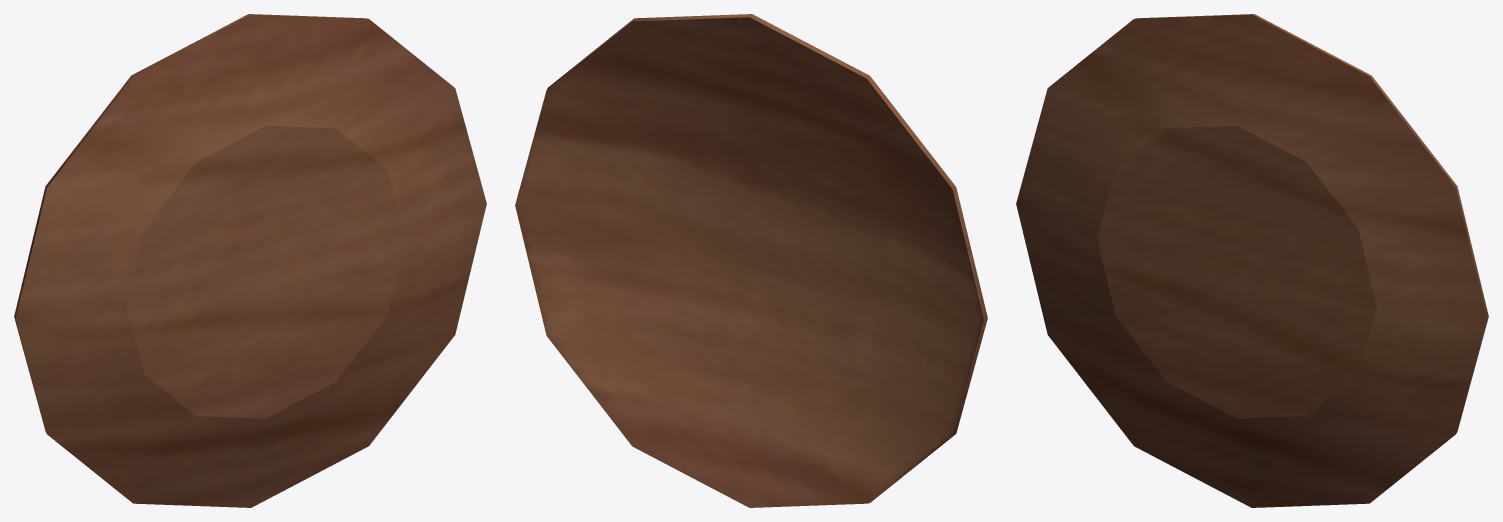
The model's file is Plate001.fbx.
3 views of the same model, side by side, from view 1: azimuth 30°, elevation 25°; view 2: azimuth 150°, elevation 25°; view 3: azimuth 330°, elevation 25° (orthographic).
Parts seen in each view (by area): view 1: Plate001; view 2: Plate001; view 3: Plate001.
Part boxes in pixels (x1=…): Plate001: x1=14, y1=14, x2=486, y2=507; Plate001: x1=515, y1=14, x2=987, y2=507; Plate001: x1=1016, y1=14, x2=1488, y2=507.
Size of the model in its own units: 0.2 by 0.2 by 0.0129.
